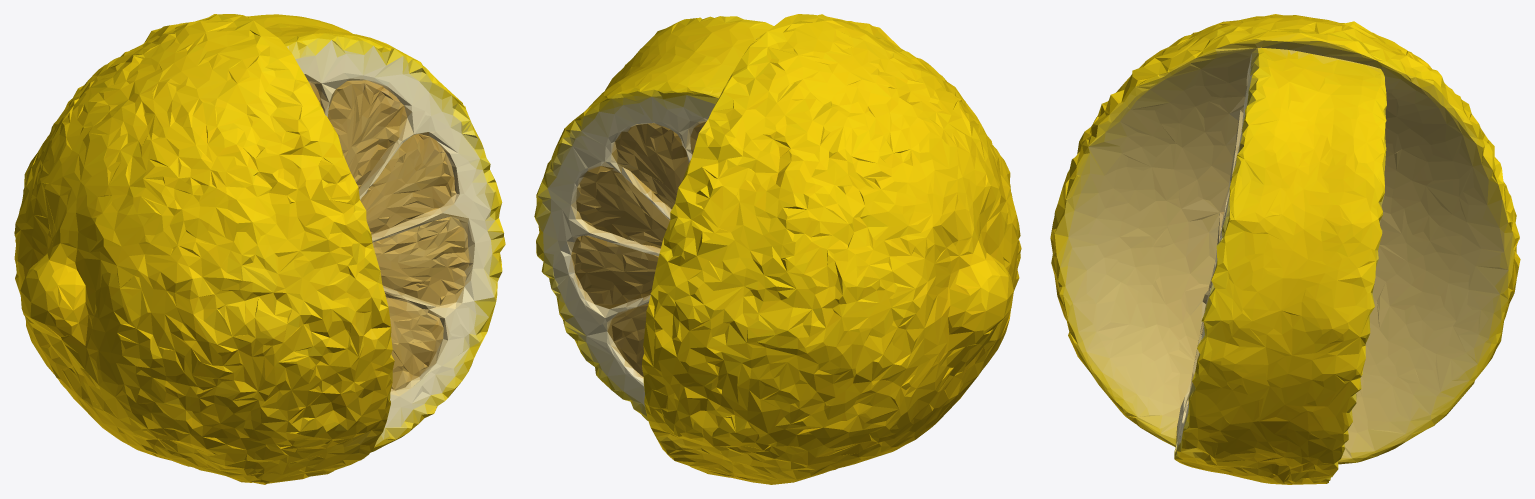
The model's file is lemon.glb.
3 views of the same model, side by side, from view 1: azimuth 30°, elevation 25°; view 2: azimuth 150°, elevation 25°; view 3: azimuth 270°, elevation 25° (orthographic).
Parts seen in each view (by area): view 1: geometry_0; view 2: geometry_0; view 3: geometry_0.
Part boxes in pixels (x1,y1,x2,y2): geometry_0: [14, 14, 505, 484]; geometry_0: [534, 14, 1021, 484]; geometry_0: [1050, 14, 1520, 484].
Bounding box in the file's own units: 0.08 × 0.0754 × 0.076.
1 material, 1 textured.
